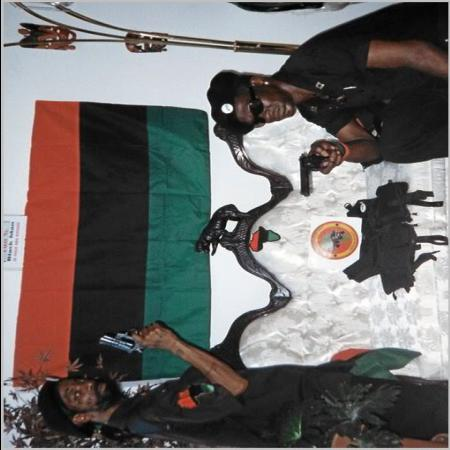Pistol: (97, 325, 143, 358), (296, 153, 330, 197)
